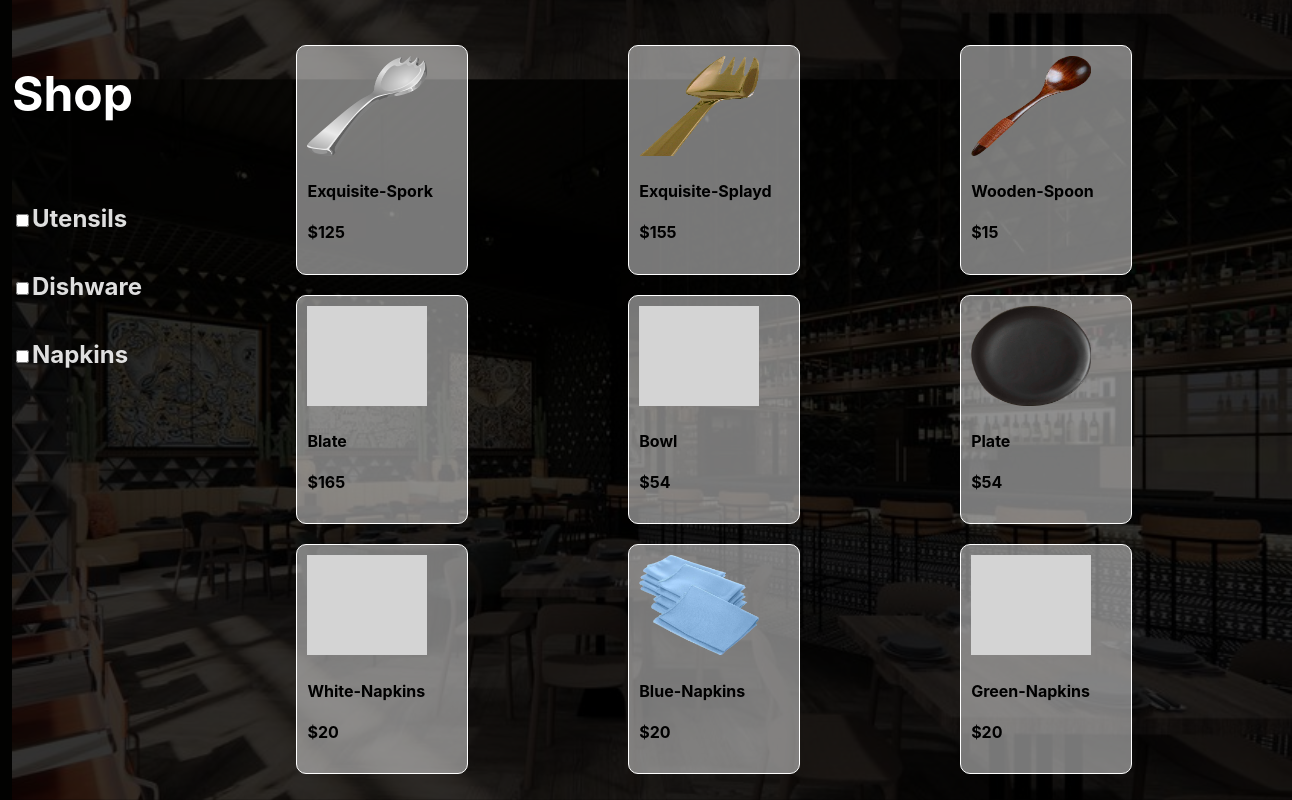
Scenario: Shop Component › Napkins Filter only renders Napkins
Click the 3rd checkbox with placeholder "Napkins" at coordinates (22, 356), box [16,350,29,362]
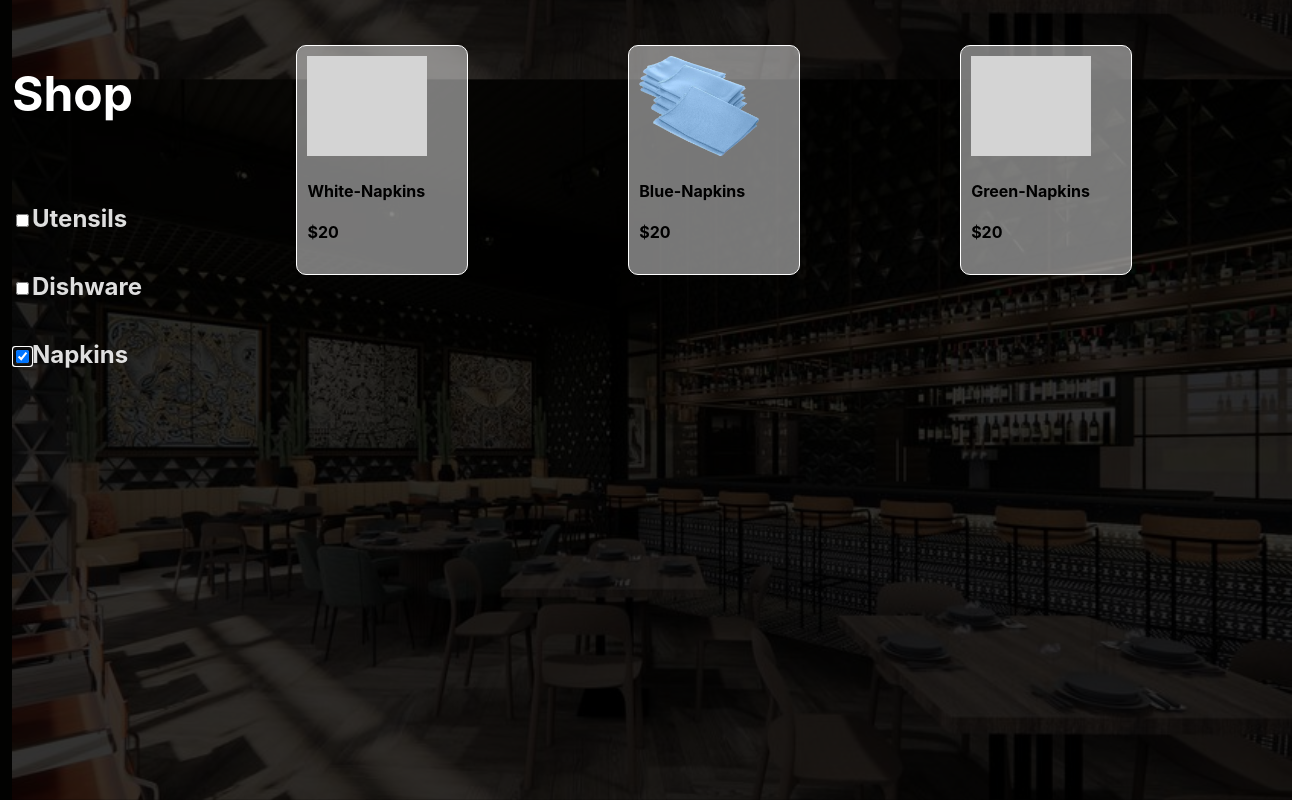
Expected: the link "Spork" is gone
